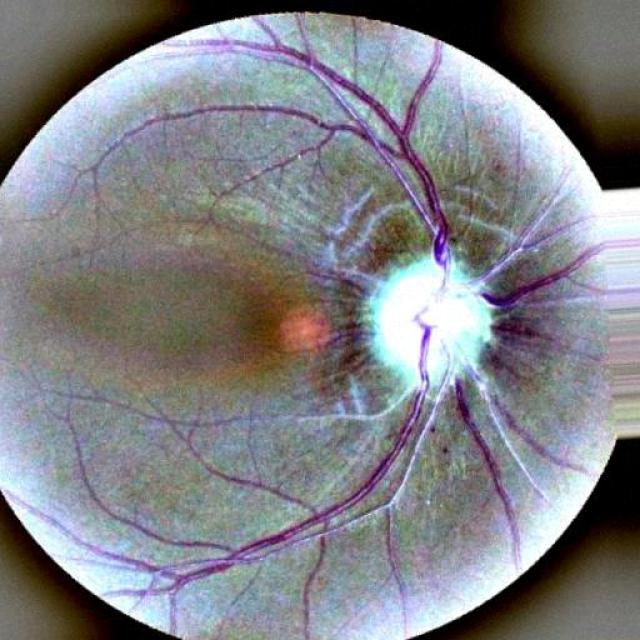Macula: (212, 280, 294, 360)
Optic Disk: (369, 255, 492, 390)
